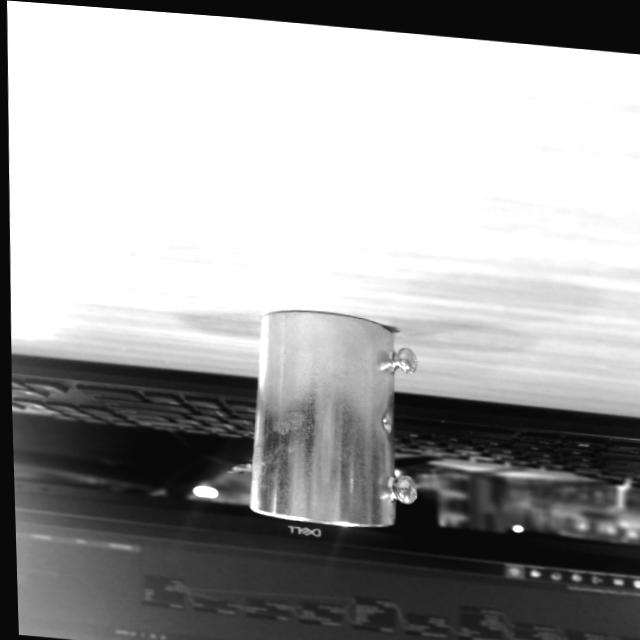Co_Nho: (243, 305, 435, 533)
